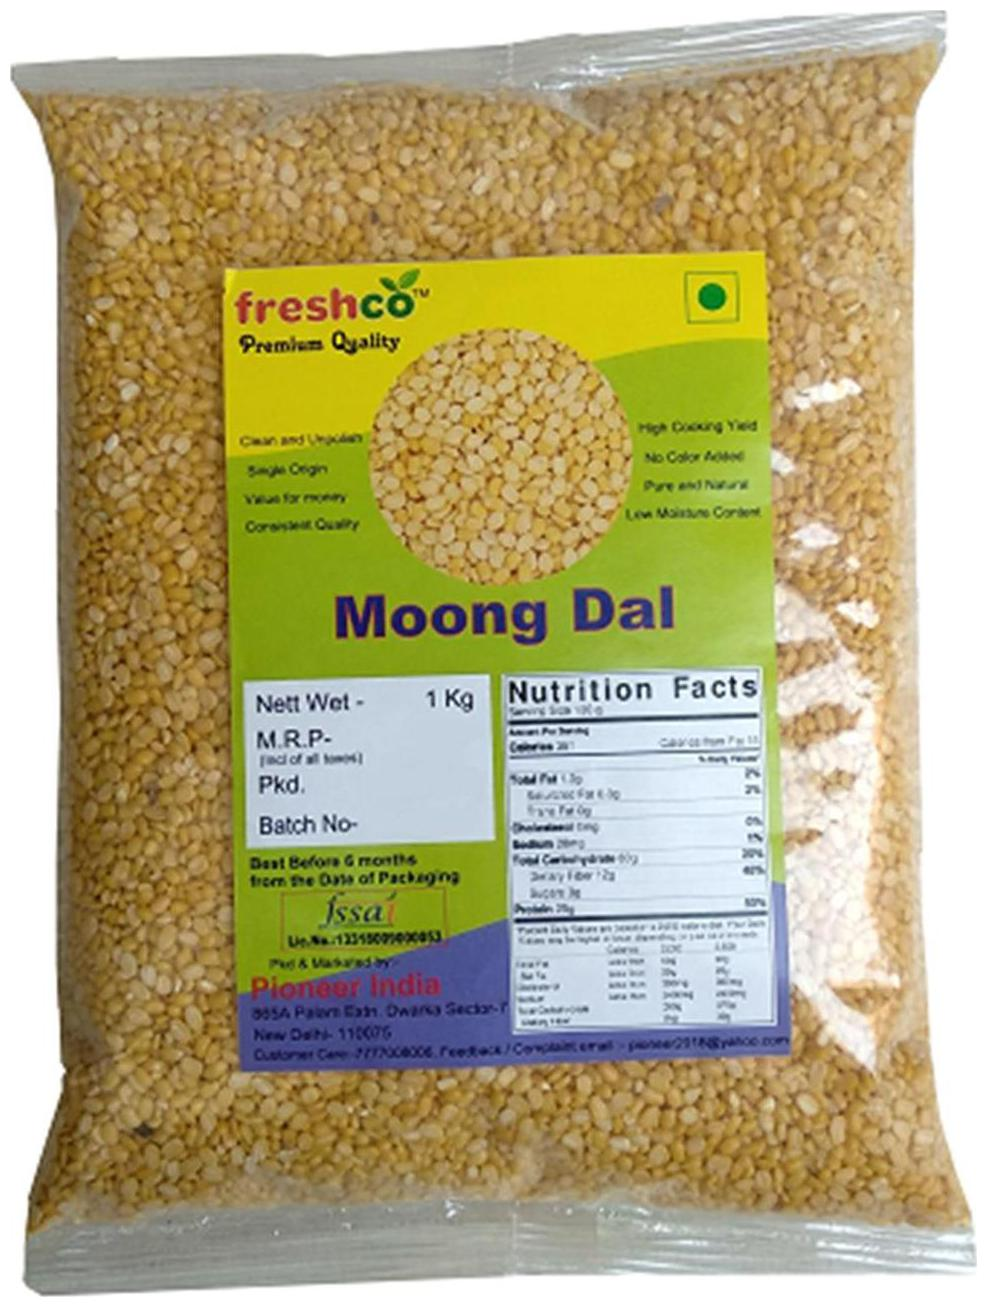fssai: (315, 893, 400, 929)
